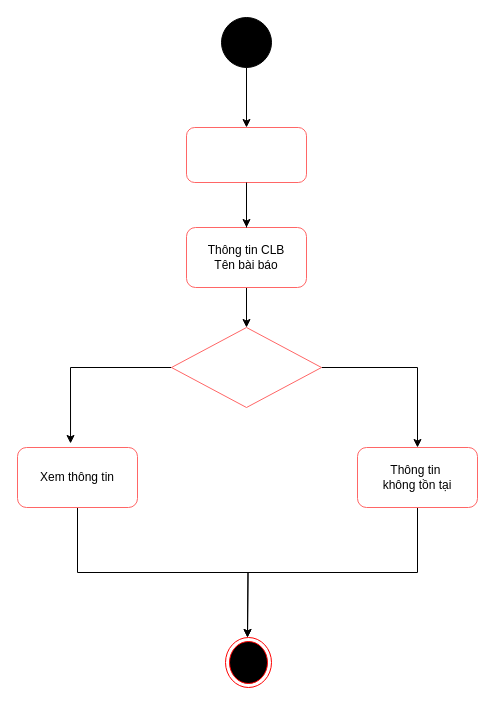
Some shapes in this 495 by 705 pixel diagram are drawn without their labels. The centre of each missing label's shape, as x and y in pixels:
Kiểm tra trong DB: the point at 246,367
Xem thông tin CLB, bài báo: the point at 246,154
